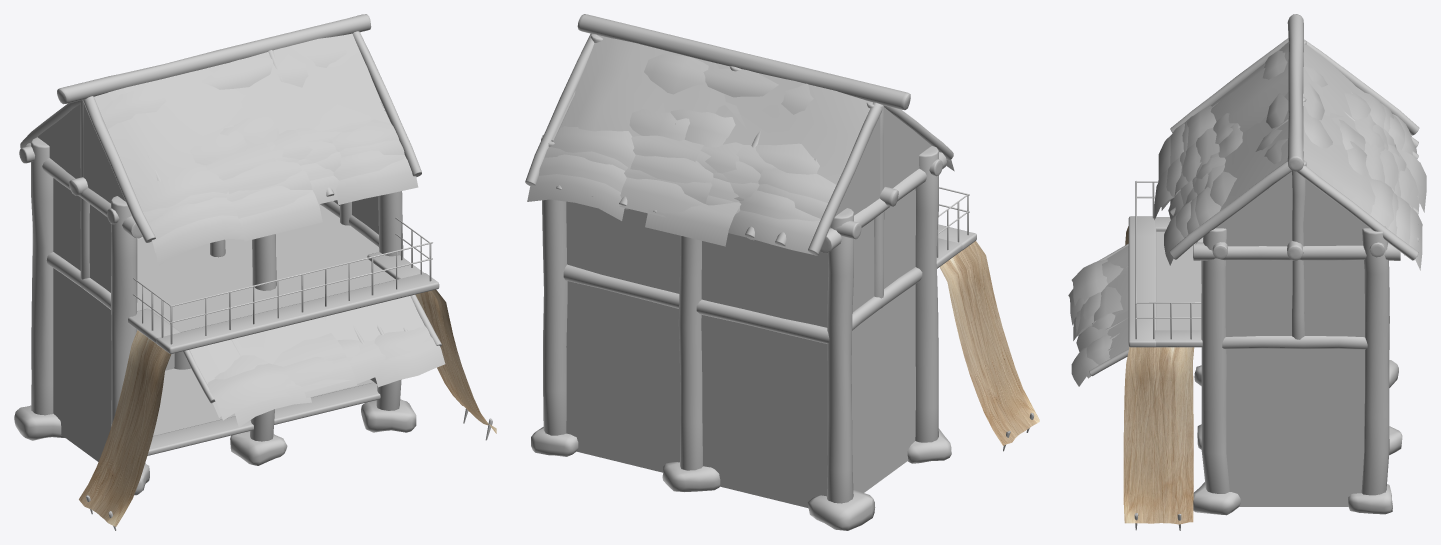
Rendered from ThatchedHouseD.fbx.
The picture shows the model from 3 angles, left to right: view 1: azimuth 30°, elevation 25°; view 2: azimuth 150°, elevation 25°; view 3: azimuth 270°, elevation 25°; orthographic projection. The views are drawn at different scales.
Parts seen in each view (by area): view 1: RoofAlphaD, ThatchedHouseD_09, RoofAlbedoD, ThatchedHouseD_02, ThatchedHouseD_06, ThatchedHouseD_03, ThatchedHouseD_10, ThatchedHouseD_04, ThatchedHouseD_05, ThatchedHouseD_08; view 2: ThatchedHouseD_06, ThatchedHouseD_09, RoofAlphaD, RoofAlbedoD, ThatchedHouseD_10, ThatchedHouseD_04, ThatchedHouseD_03, ThatchedHouseD_05; view 3: ThatchedHouseD_06, ThatchedHouseD_09, RoofAlphaD, ThatchedHouseD_10, RoofAlbedoD, ThatchedHouseD_03, ThatchedHouseD_02, ThatchedHouseD_04, ThatchedHouseD_05, ThatchedHouseD_08.
Boxes of the visible parts, <box> form: RoofAlphaD: <box>100,40,445,427</box>; ThatchedHouseD_09: <box>19,14,492,530</box>; RoofAlbedoD: <box>94,33,424,383</box>; ThatchedHouseD_02: <box>137,204,395,435</box>; ThatchedHouseD_06: <box>38,99,387,461</box>; ThatchedHouseD_03: <box>128,252,439,455</box>; ThatchedHouseD_10: <box>79,289,496,526</box>; ThatchedHouseD_04: <box>14,399,416,495</box>; ThatchedHouseD_05: <box>133,217,432,344</box>; ThatchedHouseD_08: <box>183,294,441,403</box>; ThatchedHouseD_06: <box>551,91,931,508</box>; ThatchedHouseD_09: <box>525,14,1033,503</box>; RoofAlphaD: <box>527,54,954,254</box>; RoofAlbedoD: <box>560,35,872,200</box>; ThatchedHouseD_10: <box>939,241,1039,445</box>; ThatchedHouseD_04: <box>531,427,951,530</box>; ThatchedHouseD_03: <box>936,224,976,268</box>; ThatchedHouseD_05: <box>936,187,969,257</box>; ThatchedHouseD_06: <box>1215,171,1369,506</box>; ThatchedHouseD_09: <box>1134,14,1419,530</box>; RoofAlphaD: <box>1068,50,1426,386</box>; ThatchedHouseD_10: <box>1123,226,1194,524</box>; RoofAlbedoD: <box>1106,42,1396,358</box>; ThatchedHouseD_03: <box>1128,216,1202,347</box>; ThatchedHouseD_02: <box>1156,231,1201,330</box>; ThatchedHouseD_04: <box>1193,360,1402,515</box>; ThatchedHouseD_05: <box>1135,181,1201,339</box>; ThatchedHouseD_08: <box>1089,243,1128,376</box>.
Size of the model in its own units: 241 by 201 by 224.
